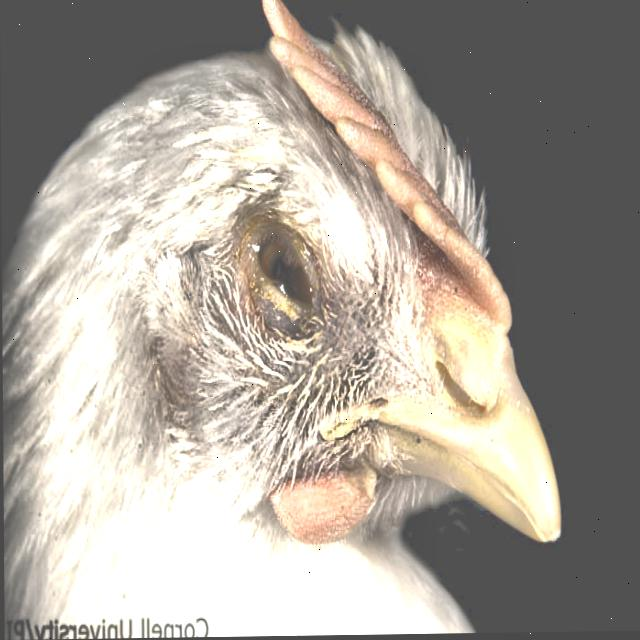Newcastle: (0, 0, 560, 633)
